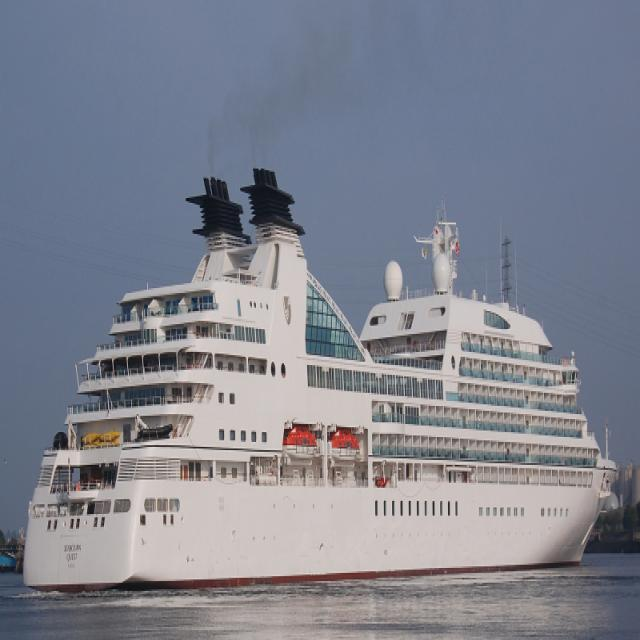cruises: (19, 147, 622, 595)
